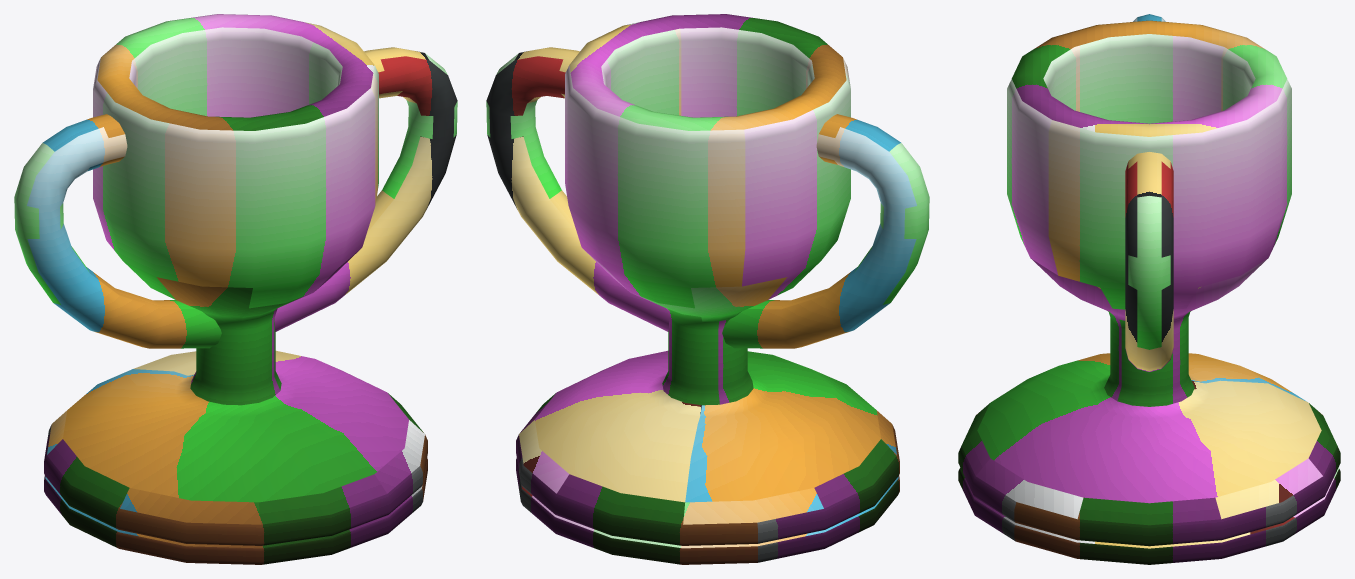
File: TrophyNoStand.fbx
3 views of the same model, side by side, from view 1: azimuth 30°, elevation 25°; view 2: azimuth 150°, elevation 25°; view 3: azimuth 270°, elevation 25° (orthographic).
Parts seen in each view (by area): view 1: Trophy; view 2: Trophy; view 3: Trophy.
Boxes of the visible parts, box(x1,y1,x2,y2) form: Trophy: box(14, 14, 457, 564); Trophy: box(486, 14, 929, 564); Trophy: box(958, 14, 1340, 564).
Size of the model in its own units: 40.93 by 37.44 by 31.46.
